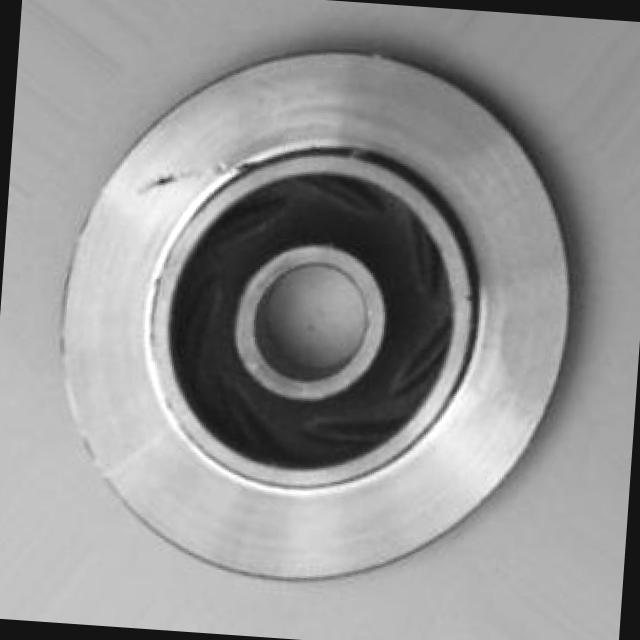Defect: (144, 171, 190, 193)
